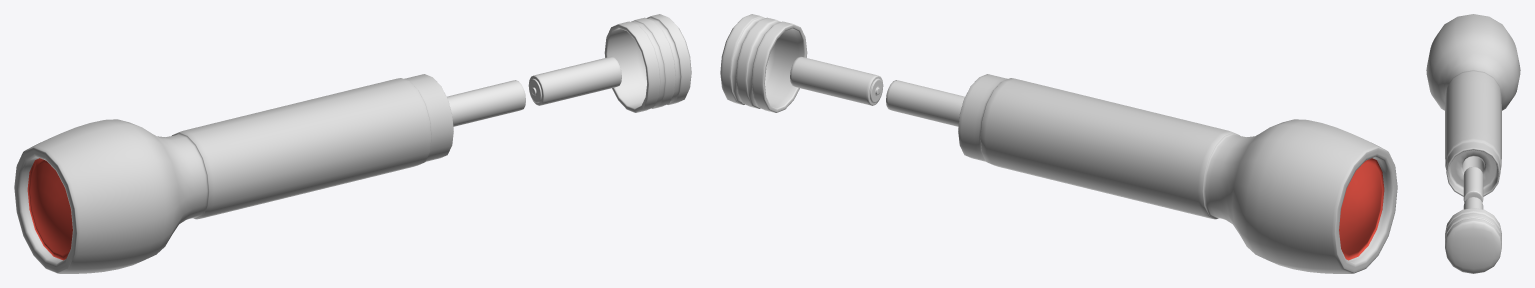
File: flashlight_jam.fbx
The picture shows the model from 3 angles, left to right: view 1: azimuth 30°, elevation 25°; view 2: azimuth 150°, elevation 25°; view 3: azimuth 270°, elevation 25°; orthographic projection. The views are drawn at different scales.
Visible parts, largest first — view 1: Flashlight, Back, Battery.001, Battery; view 2: Flashlight, Back, Battery.001, Battery; view 3: Flashlight, Back, Battery, Battery.001.
Part boxes in pixels (<box>): Flashlight: <box>14,74,453,273</box>; Back: <box>604,14,691,112</box>; Battery.001: <box>528,56,621,105</box>; Battery: <box>447,80,525,126</box>; Flashlight: <box>958,74,1397,273</box>; Back: <box>720,14,807,112</box>; Battery.001: <box>790,56,883,105</box>; Battery: <box>886,80,964,126</box>; Flashlight: <box>1426,14,1520,196</box>; Back: <box>1445,208,1501,273</box>; Battery: <box>1463,166,1483,201</box>; Battery.001: <box>1463,197,1483,209</box>.
Bounding box in the file's own units: 358 × 72.99 × 71.44.
